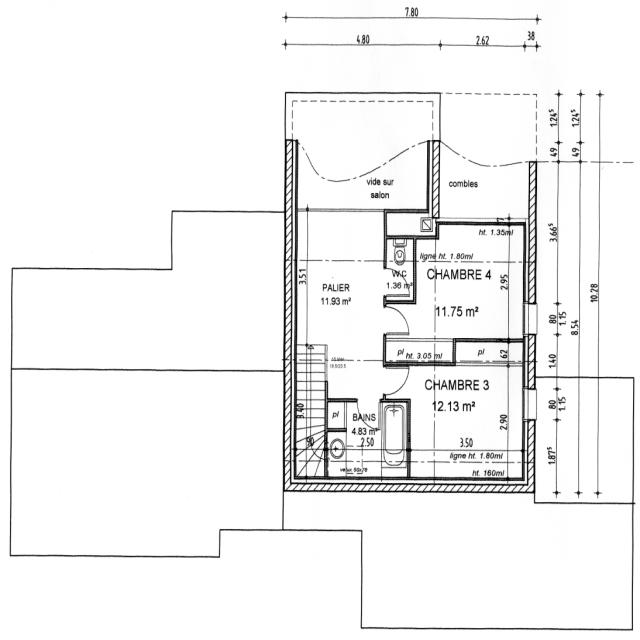door: (377, 304, 418, 335), (377, 364, 415, 394), (352, 399, 384, 428)
window: (522, 385, 538, 420), (525, 301, 535, 333)
zone: (276, 104, 448, 205), (386, 370, 541, 472), (395, 233, 540, 333), (287, 235, 395, 346), (321, 406, 389, 469), (380, 242, 420, 298)
